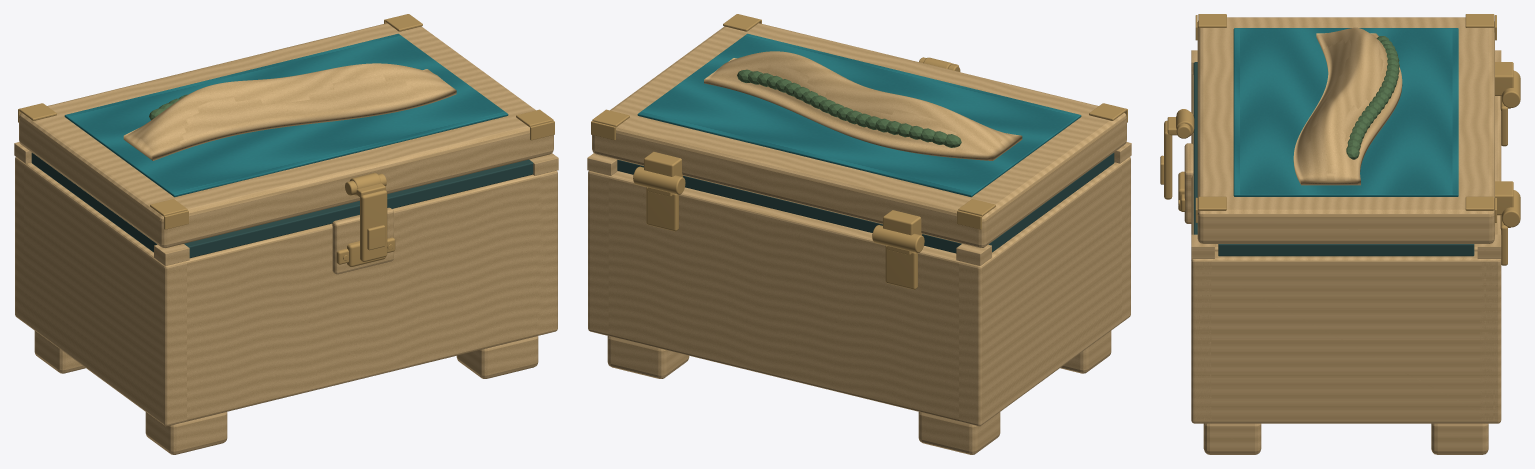
File: lithuania.glb
3 renders of one model, left to right at view 1: azimuth 30°, elevation 25°; view 2: azimuth 150°, elevation 25°; view 3: azimuth 270°, elevation 25°, orthographic. The views are drawn at different scales.
Parts seen in each view (by area): view 1: Sand body / long, Lid / polished slab, Sand body / end, Lagoon / inset, Dune / continuous ridge, Seam / long, Sand body / end.001, Sand / foot, Sand / foot.002, Latch / lifting hasp, Sand / clasp seat, Seam / end (+3 smaller); view 2: Sand body / long.001, Lid / polished slab, Sand body / end, Lagoon / inset, Dune / continuous ridge, Sand body / end.001, Seam / long.001, Sand / foot.001, Sand / foot.003, Sand body / long, Seam / end, Hinge / fixed mount (+7 smaller); view 3: Sand body / end.001, Lid / polished slab, Lagoon / inset, Dune / continuous ridge, Seam / end.001, Sand body / long.001, Sand / foot.002, Sand body / long, Sand / foot.003, Seam / long, Sand / clasp seat, Latch / lifting hasp (+10 smaller).
Boxes of the visible parts, bbox=[...] form: Sand body / long: bbox=[155, 171, 555, 425]; Lid / polished slab: bbox=[19, 23, 553, 247]; Sand body / end: bbox=[15, 158, 186, 426]; Lagoon / inset: bbox=[64, 33, 508, 197]; Dune / continuous ridge: bbox=[123, 63, 456, 160]; Seam / long: bbox=[184, 159, 533, 258]; Sand body / end.001: bbox=[537, 170, 557, 335]; Sand / foot: bbox=[145, 412, 227, 454]; Sand / foot.002: bbox=[456, 336, 538, 378]; Latch / lifting hasp: bbox=[360, 190, 387, 261]; Sand / clasp seat: bbox=[332, 207, 393, 274]; Seam / end: bbox=[31, 153, 157, 252]; Sand body / long.001: bbox=[608, 171, 990, 426]; Lid / polished slab: bbox=[592, 23, 1126, 247]; Sand body / end: bbox=[959, 160, 1129, 426]; Lagoon / inset: bbox=[637, 33, 1081, 197]; Dune / continuous ridge: bbox=[704, 51, 1022, 160]; Sand body / end.001: bbox=[588, 170, 608, 335]; Seam / long.001: bbox=[617, 160, 961, 253]; Sand / foot.001: bbox=[918, 412, 1000, 454]; Sand / foot.003: bbox=[607, 336, 689, 378]; Sand body / long: bbox=[1121, 157, 1130, 322]; Seam / end: bbox=[988, 153, 1114, 252]; Hinge / fixed mount: bbox=[885, 245, 917, 289]; Sand body / end.001: bbox=[1191, 251, 1501, 423]; Lid / polished slab: bbox=[1197, 17, 1494, 243]; Lagoon / inset: bbox=[1233, 28, 1458, 196]; Dune / continuous ridge: bbox=[1293, 27, 1402, 185]; Seam / end.001: bbox=[1218, 244, 1474, 256]; Sand body / long.001: bbox=[1480, 96, 1501, 423]; Sand / foot.002: bbox=[1203, 423, 1261, 454]; Sand body / long: bbox=[1191, 74, 1211, 423]; Sand / foot.003: bbox=[1431, 423, 1488, 454]; Seam / long: bbox=[1193, 62, 1197, 234]; Sand / clasp seat: bbox=[1184, 143, 1193, 223]; Latch / lifting hasp: bbox=[1164, 120, 1172, 199].
Bounding box in the file's own units: 3.72 × 2.58 × 2.88.
Materials: 5 (2 with a texture image).
